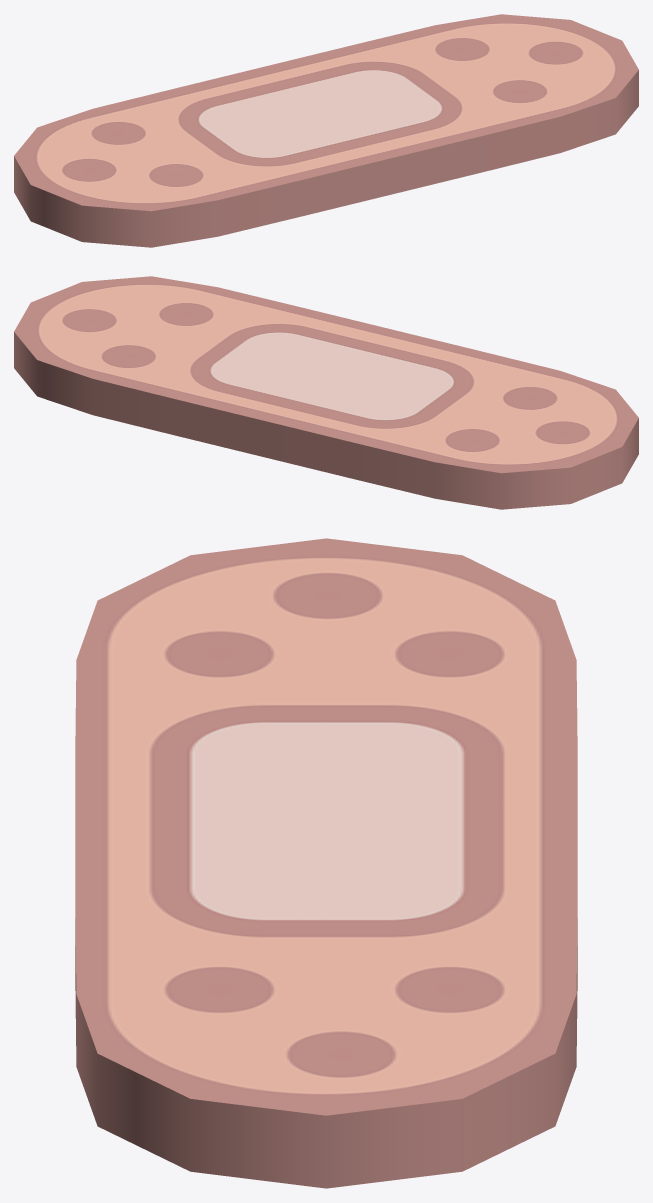
The model's file is plaster.fbx.
3 renders of one model, top to bottom at view 1: azimuth 30°, elevation 25°; view 2: azimuth 150°, elevation 25°; view 3: azimuth 270°, elevation 25°, orthographic. The views are drawn at different scales.
Visible parts, largest first — view 1: Null_1; view 2: Null_1; view 3: Null_1.
Boxes of the visible parts, x1,y1,x2,y2 form: Null_1: [14, 14, 638, 247]; Null_1: [14, 276, 638, 509]; Null_1: [75, 538, 577, 1188].
Bounding box in the file's own units: 94.62 × 5.57 × 34.78.
Materials: 1 (1 with a texture image).
